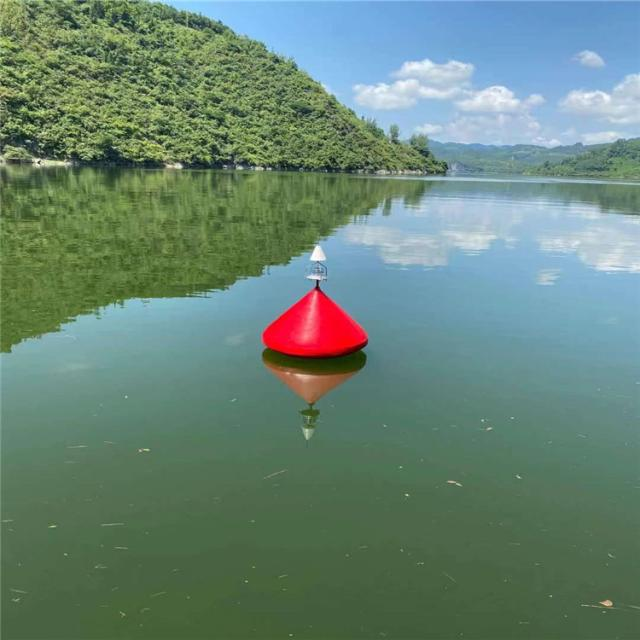buoy: (254, 235, 370, 360)
